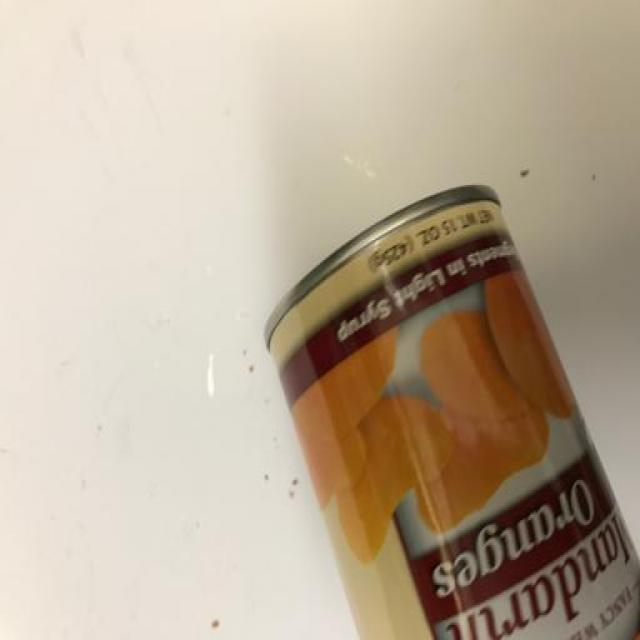metel: (227, 179, 640, 640)
